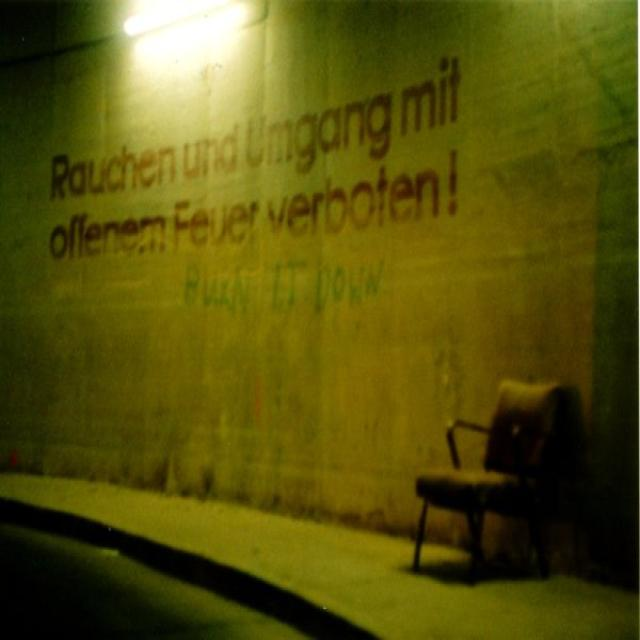chair: (404, 357, 571, 598)
